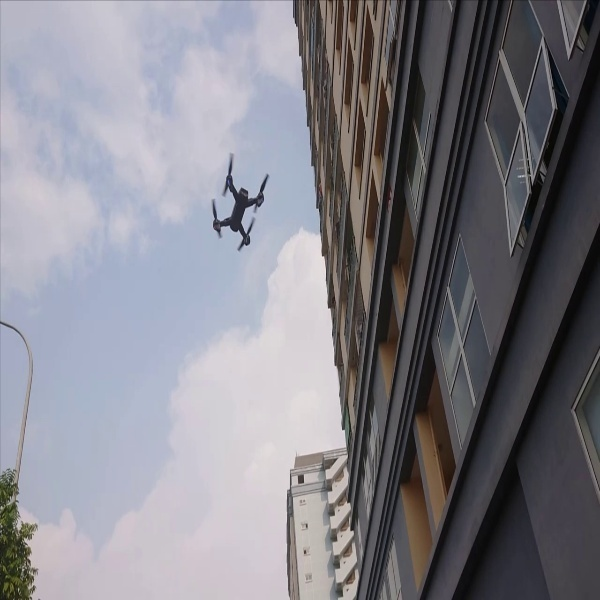drone: (204, 153, 278, 256)
